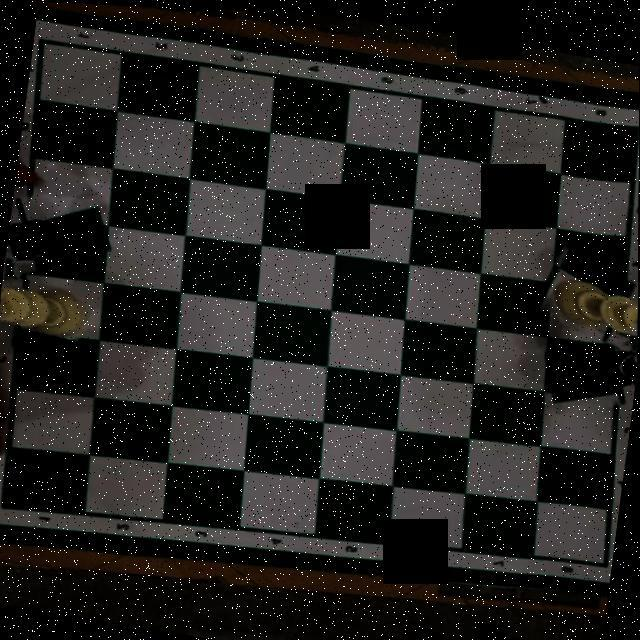chess-table-corners: (0, 481, 24, 534), (614, 104, 640, 148), (30, 23, 58, 62), (589, 539, 615, 567)
